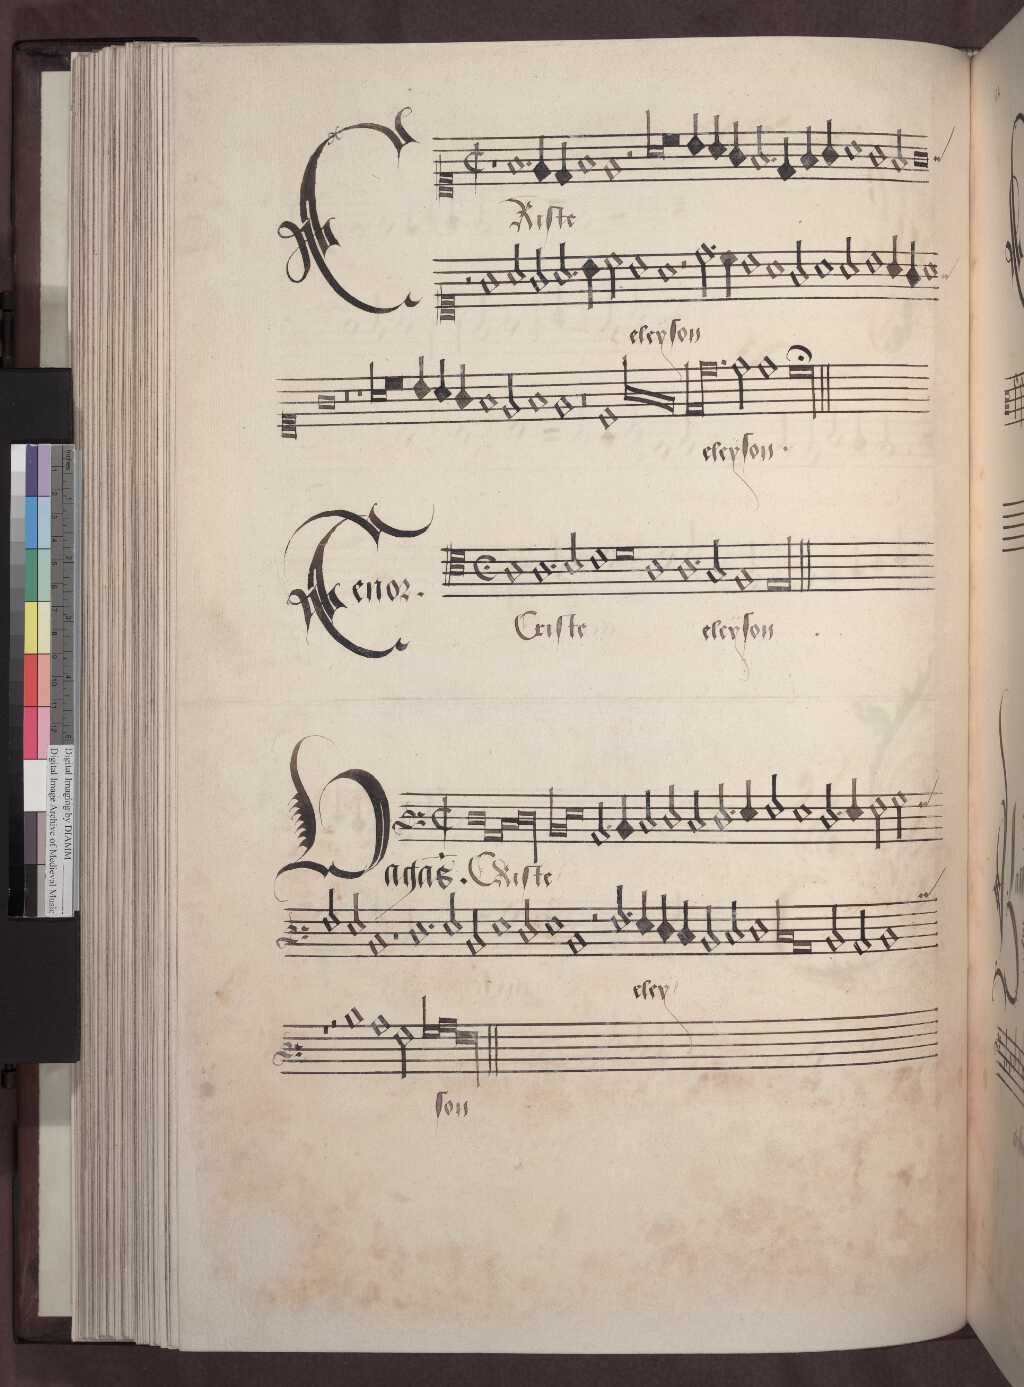c clef_11: (432, 274, 461, 335)
custos_7: (935, 247, 960, 294)
minim rest: (462, 254, 477, 314), (678, 238, 690, 308)
minim_3: (692, 232, 714, 302)
minim_4: (601, 241, 625, 305)
minim_6: (838, 227, 861, 288), (551, 233, 571, 292), (511, 236, 527, 292)
minim_7: (528, 238, 551, 300), (788, 232, 812, 294)
point: (565, 262, 580, 283), (704, 238, 719, 254)
semibreve_5: (626, 244, 653, 286), (738, 243, 763, 284), (861, 242, 885, 281)
semibreve_6: (654, 250, 681, 293), (762, 248, 788, 288), (812, 248, 837, 286), (922, 253, 943, 288)
semibreve_7: (475, 260, 503, 306)
semiminim_4: (718, 240, 740, 306)
semiminim_5: (580, 247, 602, 317)
semiminim_6: (885, 230, 904, 286)
semiminim_7: (904, 233, 924, 296)
